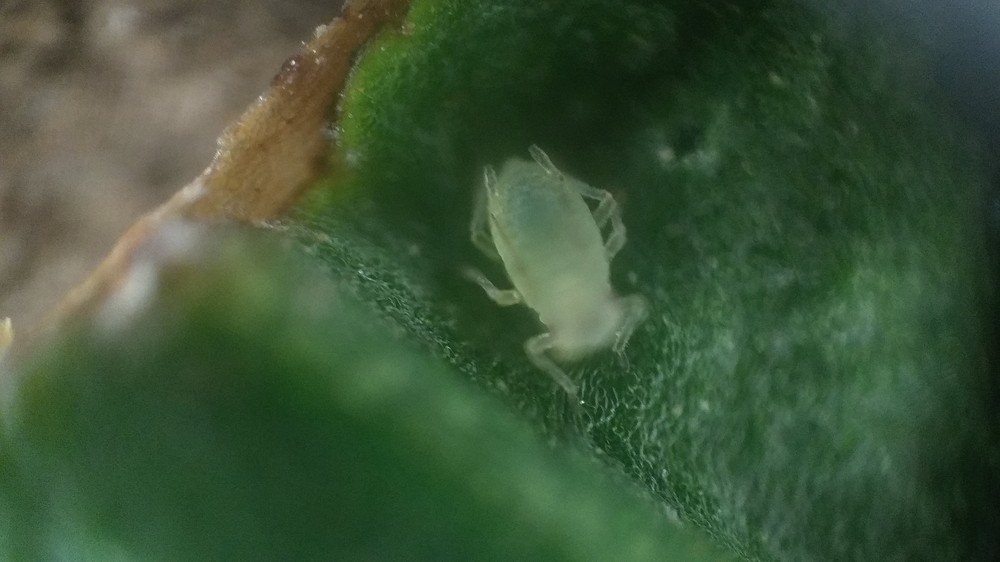Pulgon: (432, 141, 689, 410)
